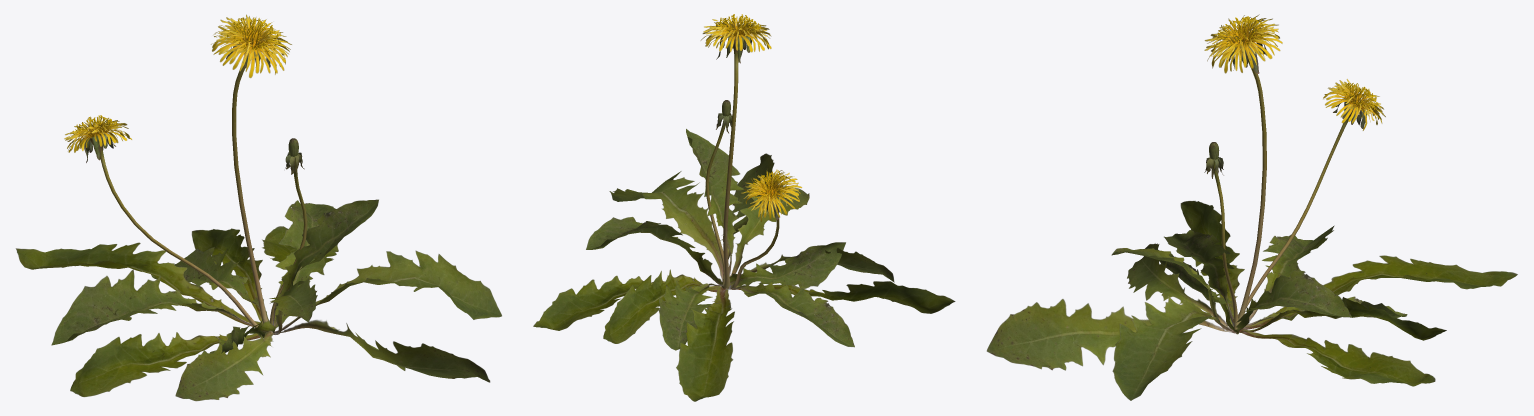
Rendered from flower.glb.
The picture shows the model from 3 angles, left to right: view 1: azimuth 30°, elevation 25°; view 2: azimuth 150°, elevation 25°; view 3: azimuth 270°, elevation 25°; orthographic projection. The views are drawn at different scales.
Parts seen in each view (by area): view 1: dandelion_01_a_LOD0.001; view 2: dandelion_01_a_LOD0.001; view 3: dandelion_01_a_LOD0.001.
Boxes of the visible parts, x1=… form: dandelion_01_a_LOD0.001: x1=16, y1=14, x2=501, y2=401; dandelion_01_a_LOD0.001: x1=533, y1=14, x2=955, y2=401; dandelion_01_a_LOD0.001: x1=986, y1=14, x2=1517, y2=400.
Bounding box in the file's own units: 0.2203 × 0.1642 × 0.2577.
1 material, 1 textured.
